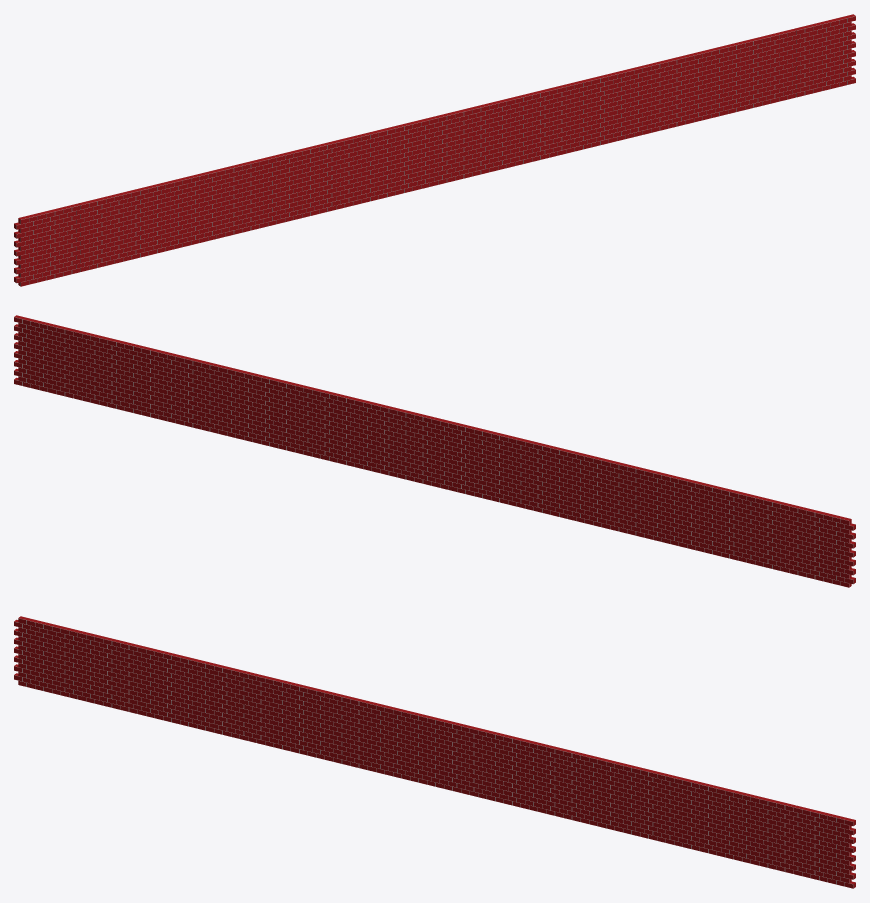
The model's file is muro.obj.
3 renders of one model, top to bottom at view 1: azimuth 30°, elevation 25°; view 2: azimuth 150°, elevation 25°; view 3: azimuth 330°, elevation 25°, orthographic.
Parts seen in each view (by area): view 1: Mesh.009_Brick_Centre_1_Bricks_Center.014, Mesh.011_Brick_Centre_1_Bricks_Center.015, Mesh.004_Brick_Centre_1_Bricks_Center.004, Mesh.007_Brick_Centre_1_Bricks_Center.007, Mesh.001_Brick_Centre_1_Bricks_Center.001, Mesh.003_Brick_Centre_1_Bricks_Center.003, Mesh.008_Brick_Centre_1_Bricks_Center.008, Mesh.002_Brick_Centre_1_Bricks_Center.002, Mesh_Brick_Centre_1_Bricks_Center, Mesh.006_Brick_Centre_1_Bricks_Center.006, Mesh.005_Brick_Centre_1_Bricks_Center.005, Mesh.013_Brick_Centre_1_Bricks_Center.013 (+2 smaller); view 2: Mesh.009_Brick_Centre_1_Bricks_Center.014, Mesh.011_Brick_Centre_1_Bricks_Center.015, Mesh.004_Brick_Centre_1_Bricks_Center.004, Mesh.007_Brick_Centre_1_Bricks_Center.007, Mesh.001_Brick_Centre_1_Bricks_Center.001, Mesh.003_Brick_Centre_1_Bricks_Center.003, Mesh.008_Brick_Centre_1_Bricks_Center.008, Mesh.002_Brick_Centre_1_Bricks_Center.002, Mesh_Brick_Centre_1_Bricks_Center, Mesh.006_Brick_Centre_1_Bricks_Center.006, Mesh.005_Brick_Centre_1_Bricks_Center.005, Mesh.013_Brick_Centre_1_Bricks_Center.013 (+2 smaller); view 3: Mesh.011_Brick_Centre_1_Bricks_Center.015, Mesh_Brick_Centre_1_Bricks_Center, Mesh.009_Brick_Centre_1_Bricks_Center.014, Mesh.012_Brick_Centre_1_Bricks_Center.012, Mesh.003_Brick_Centre_1_Bricks_Center.003, Mesh.010_Brick_Centre_1_Bricks_Center.010, Mesh.006_Brick_Centre_1_Bricks_Center.006, Mesh.005_Brick_Centre_1_Bricks_Center.005, Mesh.013_Brick_Centre_1_Bricks_Center.013, Mesh.004_Brick_Centre_1_Bricks_Center.004, Mesh.008_Brick_Centre_1_Bricks_Center.008, Mesh.007_Brick_Centre_1_Bricks_Center.007 (+2 smaller).
Boxes of the visible parts, x1,y1,x2,y2 form: Mesh.009_Brick_Centre_1_Bricks_Center.014: (14,203,80,286); Mesh.011_Brick_Centre_1_Bricks_Center.015: (792,14,855,97); Mesh.004_Brick_Centre_1_Bricks_Center.004: (195,160,259,242); Mesh.007_Brick_Centre_1_Bricks_Center.007: (553,72,617,155); Mesh.001_Brick_Centre_1_Bricks_Center.001: (374,116,438,199); Mesh.003_Brick_Centre_1_Bricks_Center.003: (314,131,378,213); Mesh.008_Brick_Centre_1_Bricks_Center.008: (672,43,736,126); Mesh.002_Brick_Centre_1_Bricks_Center.002: (493,87,557,170); Mesh_Brick_Centre_1_Bricks_Center: (434,101,497,184); Mesh.006_Brick_Centre_1_Bricks_Center.006: (613,58,676,140); Mesh.005_Brick_Centre_1_Bricks_Center.005: (255,145,318,228); Mesh.013_Brick_Centre_1_Bricks_Center.013: (76,189,139,271); Mesh.009_Brick_Centre_1_Bricks_Center.014: (789,504,855,587); Mesh.011_Brick_Centre_1_Bricks_Center.015: (14,315,77,398); Mesh.004_Brick_Centre_1_Bricks_Center.004: (610,461,674,543); Mesh.007_Brick_Centre_1_Bricks_Center.007: (252,373,316,456); Mesh.001_Brick_Centre_1_Bricks_Center.001: (431,417,495,500); Mesh.003_Brick_Centre_1_Bricks_Center.003: (491,432,555,514); Mesh.008_Brick_Centre_1_Bricks_Center.008: (133,344,197,427); Mesh.002_Brick_Centre_1_Bricks_Center.002: (312,388,376,471); Mesh_Brick_Centre_1_Bricks_Center: (372,402,435,485); Mesh.006_Brick_Centre_1_Bricks_Center.006: (193,359,256,441); Mesh.005_Brick_Centre_1_Bricks_Center.005: (551,446,614,529); Mesh.013_Brick_Centre_1_Bricks_Center.013: (730,490,793,572); Mesh.011_Brick_Centre_1_Bricks_Center.015: (789,805,855,888); Mesh_Brick_Centre_1_Bricks_Center: (431,718,497,801); Mesh.009_Brick_Centre_1_Bricks_Center.014: (14,616,79,699); Mesh.012_Brick_Centre_1_Bricks_Center.012: (133,645,198,728); Mesh.003_Brick_Centre_1_Bricks_Center.003: (312,689,378,771); Mesh.010_Brick_Centre_1_Bricks_Center.010: (729,791,795,873); Mesh.006_Brick_Centre_1_Bricks_Center.006: (610,762,676,844); Mesh.005_Brick_Centre_1_Bricks_Center.005: (252,674,318,757); Mesh.013_Brick_Centre_1_Bricks_Center.013: (73,631,139,713); Mesh.004_Brick_Centre_1_Bricks_Center.004: (193,660,258,742); Mesh.008_Brick_Centre_1_Bricks_Center.008: (670,776,735,859); Mesh.007_Brick_Centre_1_Bricks_Center.007: (551,747,616,830).
Size of the model in its own units: 1182 by 90 by 6.75.
